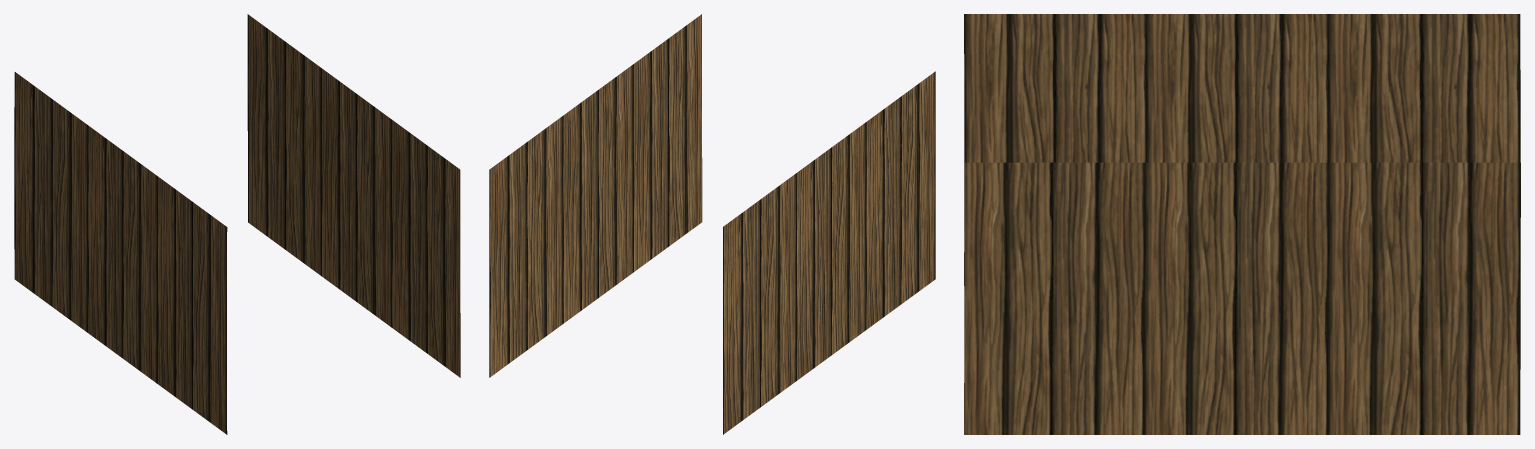
File: LAKETOWN_WAREHOUSE2_PS_WH2_WALLS37364.fbx
The picture shows the model from 3 angles, left to right: view 1: azimuth 30°, elevation 25°; view 2: azimuth 150°, elevation 25°; view 3: azimuth 270°, elevation 25°; orthographic projection. The views are drawn at different scales.
Visible parts, largest first — view 1: LAKETOWN_WAREHOUSE2_PS_WH2_WALLS37364; view 2: LAKETOWN_WAREHOUSE2_PS_WH2_WALLS37364; view 3: LAKETOWN_WAREHOUSE2_PS_WH2_WALLS37364.
Boxes of the visible parts, x1=… form: LAKETOWN_WAREHOUSE2_PS_WH2_WALLS37364: x1=14, y1=14, x2=460, y2=434; LAKETOWN_WAREHOUSE2_PS_WH2_WALLS37364: x1=489, y1=14, x2=935, y2=434; LAKETOWN_WAREHOUSE2_PS_WH2_WALLS37364: x1=964, y1=14, x2=1520, y2=434.
Bounding box in the file's own units: 23858 × 20342 × 37691.
Materials: 1 (1 with a texture image).
